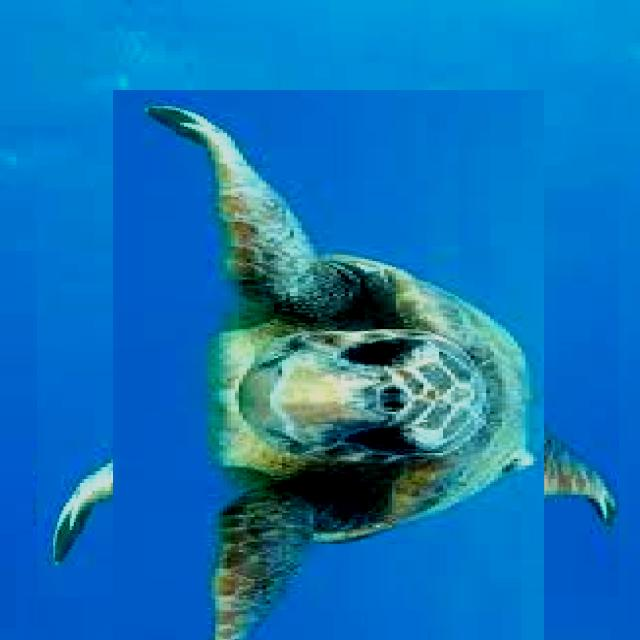Sea turtle: (74, 128, 582, 634)
